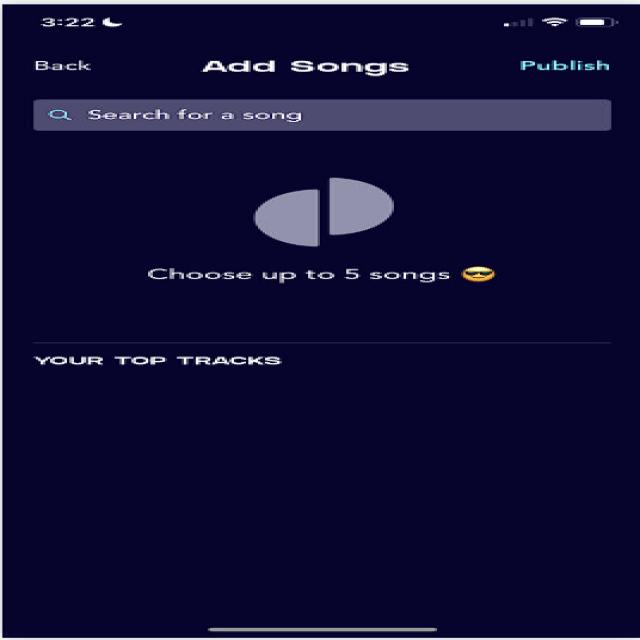input: (18, 93, 632, 143)
text: (30, 345, 317, 374), (195, 54, 424, 84), (517, 49, 640, 78), (22, 54, 100, 78)
view: (123, 152, 534, 294)
